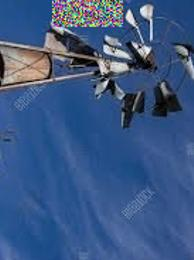faulty: (128, 7, 183, 119)
